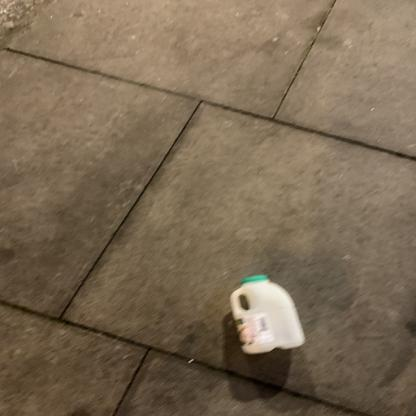trash: (232, 278, 316, 364)
